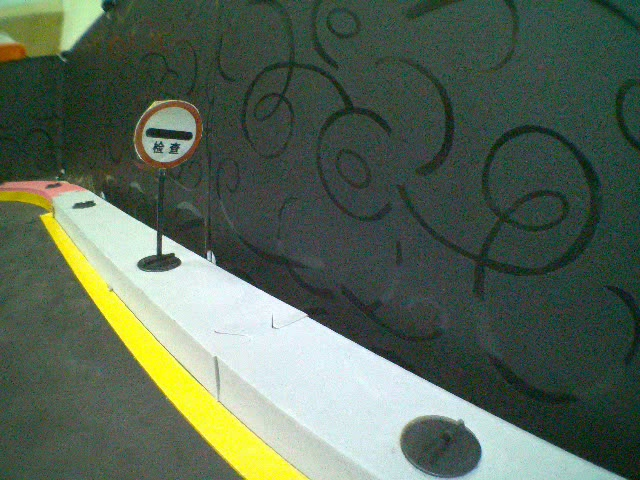Check: (132, 98, 204, 167)
